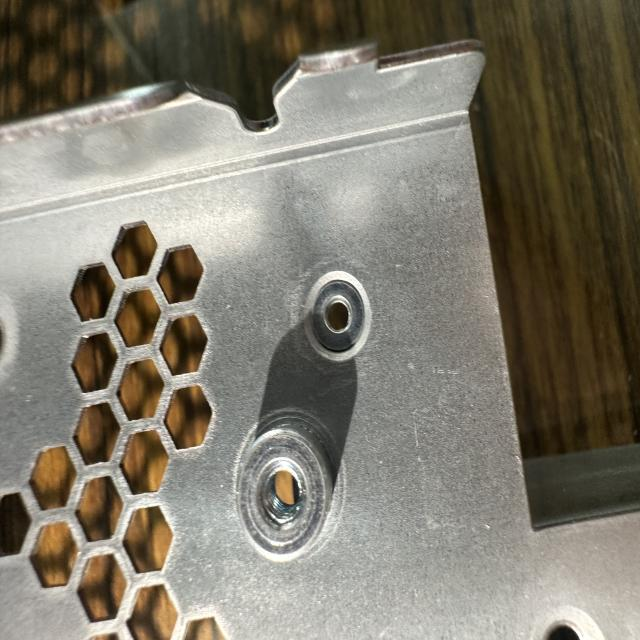Missing screw: (292, 263, 380, 369)
